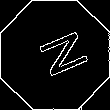N_SW: (24, 27, 86, 83)
